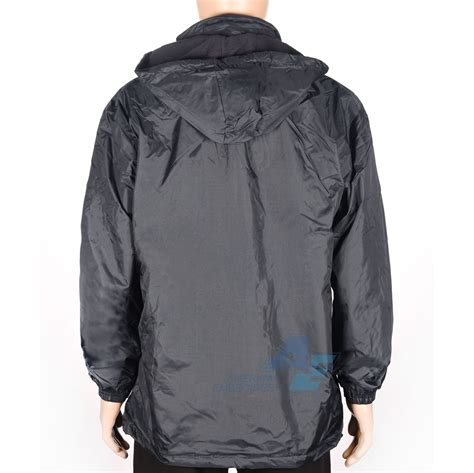nylon: (80, 13, 394, 466)
